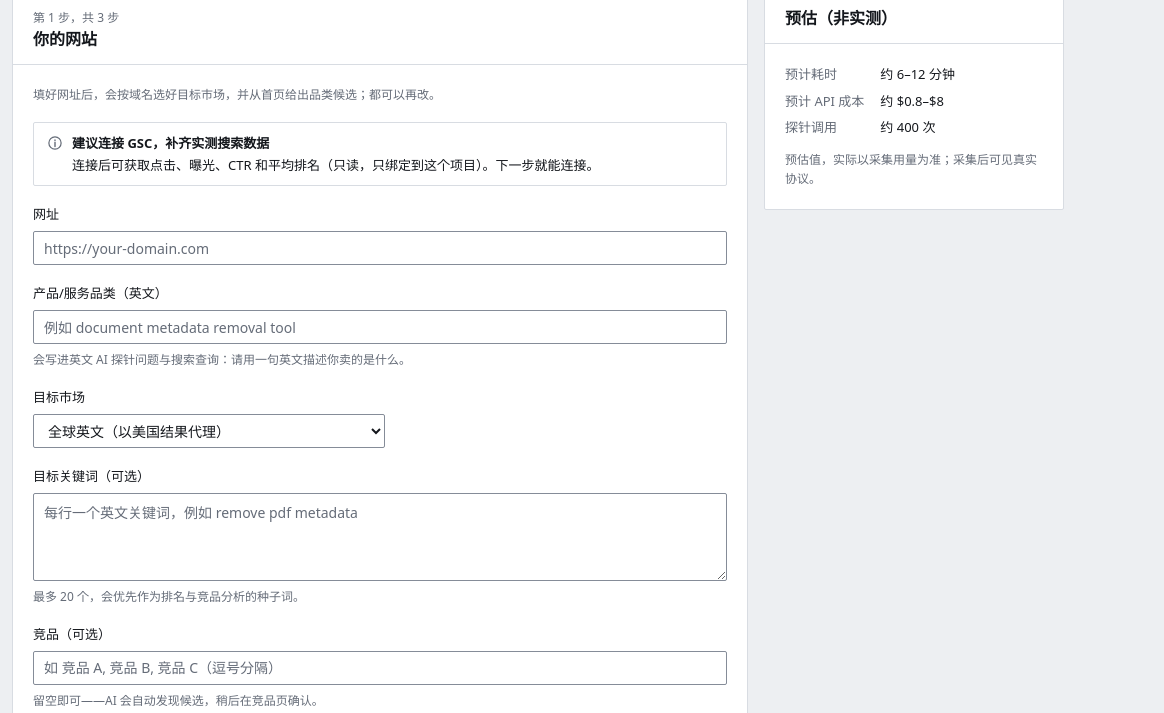
it: NewAnalysisForm 第 2 步数据连接三态 › AI 探针已配显示「已配置」，无去配置链接
Type "https://example.com" into the field labelled "网址" at (380, 248), box [33,231,727,265]
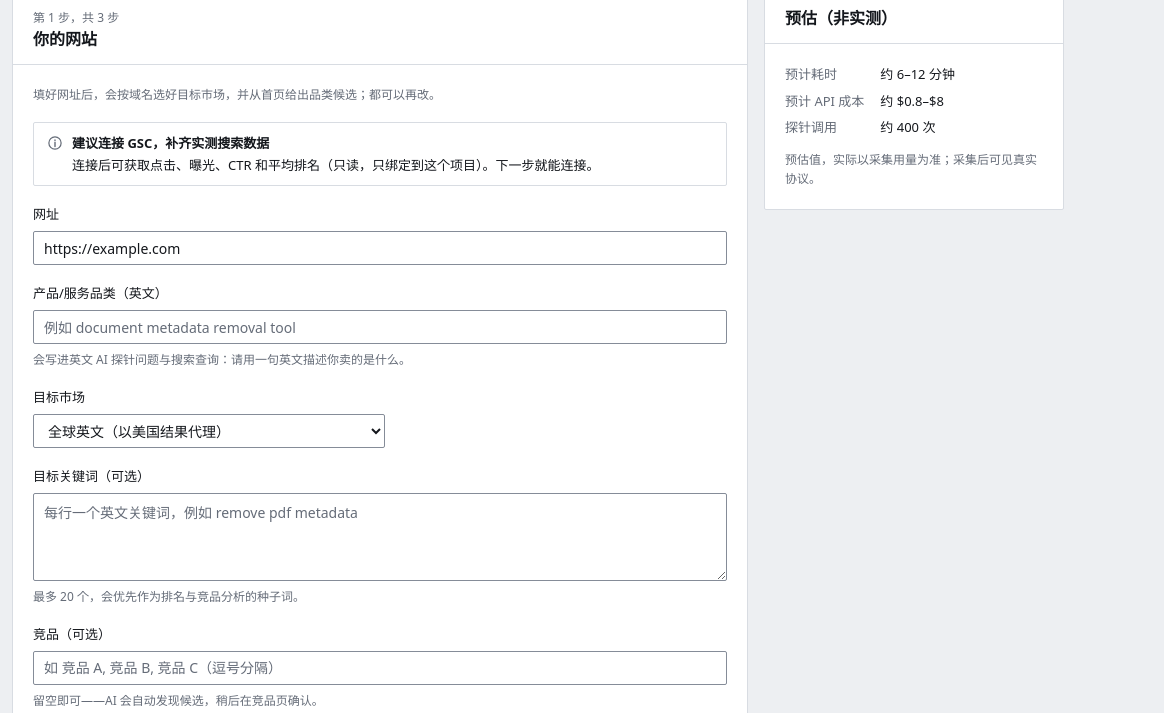
Type "saas tool" into the field labelled "产品/服务品类（英文）" at (380, 327), box [33,310,727,344]
(page scrolled)
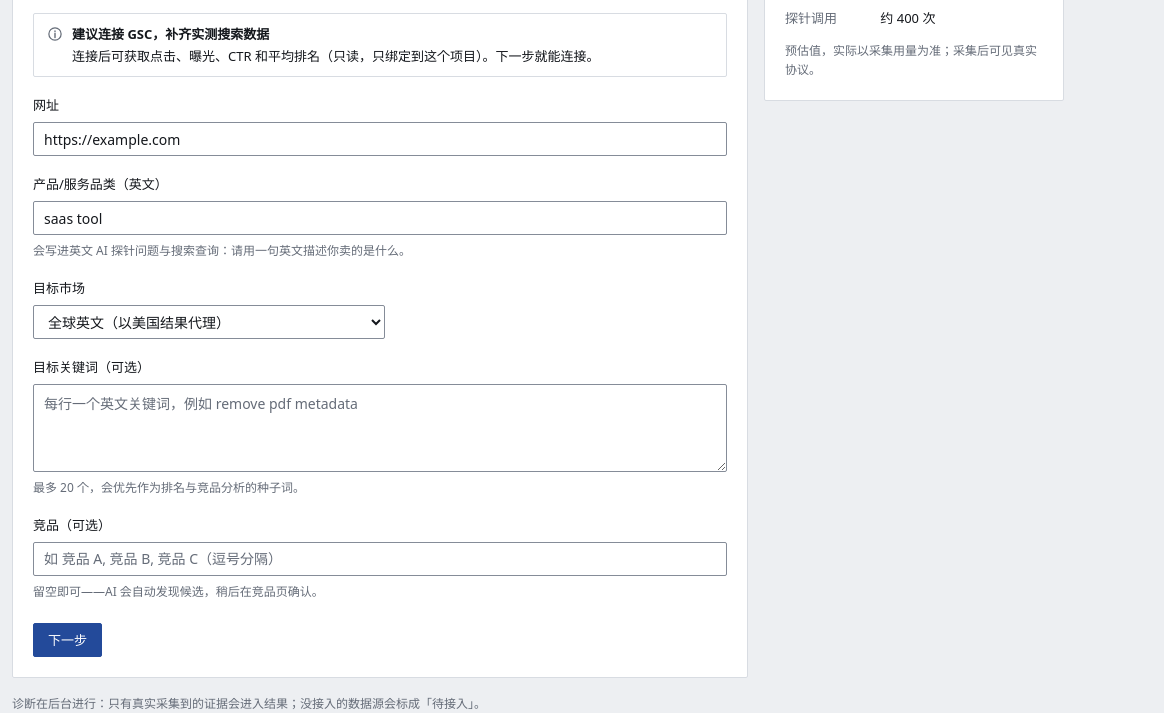
Click the button "下一步" at (68, 640), box [33,623,102,657]
(page scrolled)
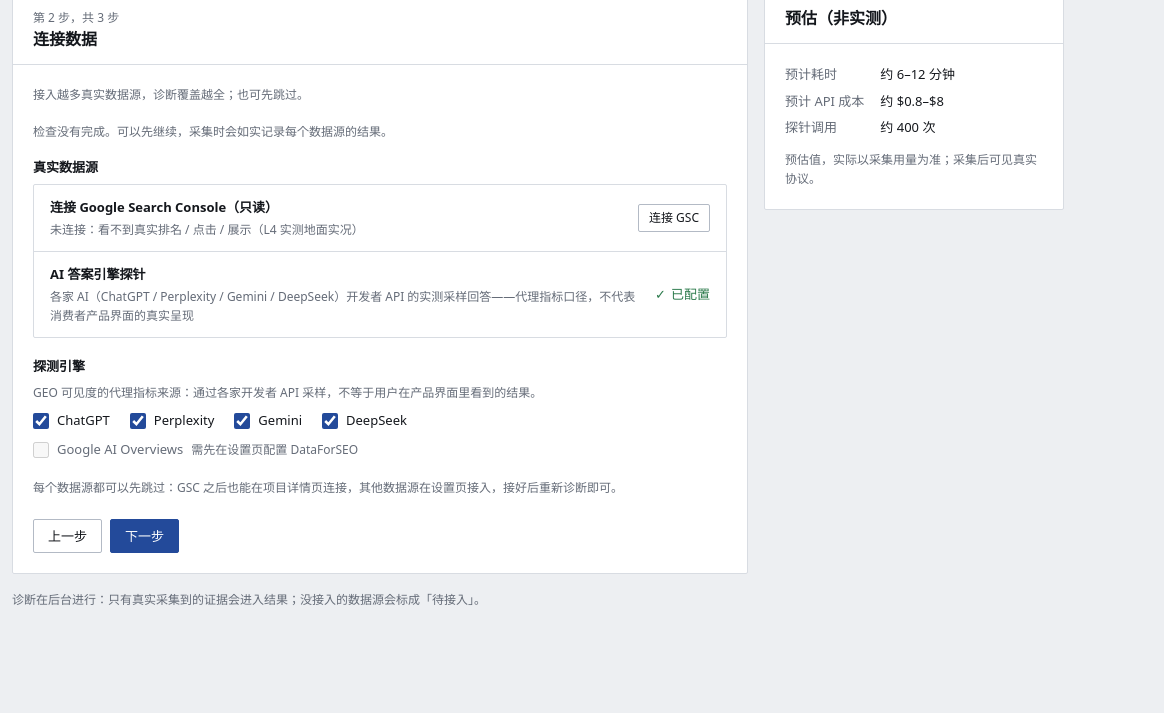
Now the heading "连接数据" is shown, box [33,28,97,50]
Now the text "已配置" is shown, box [655,284,710,305]
